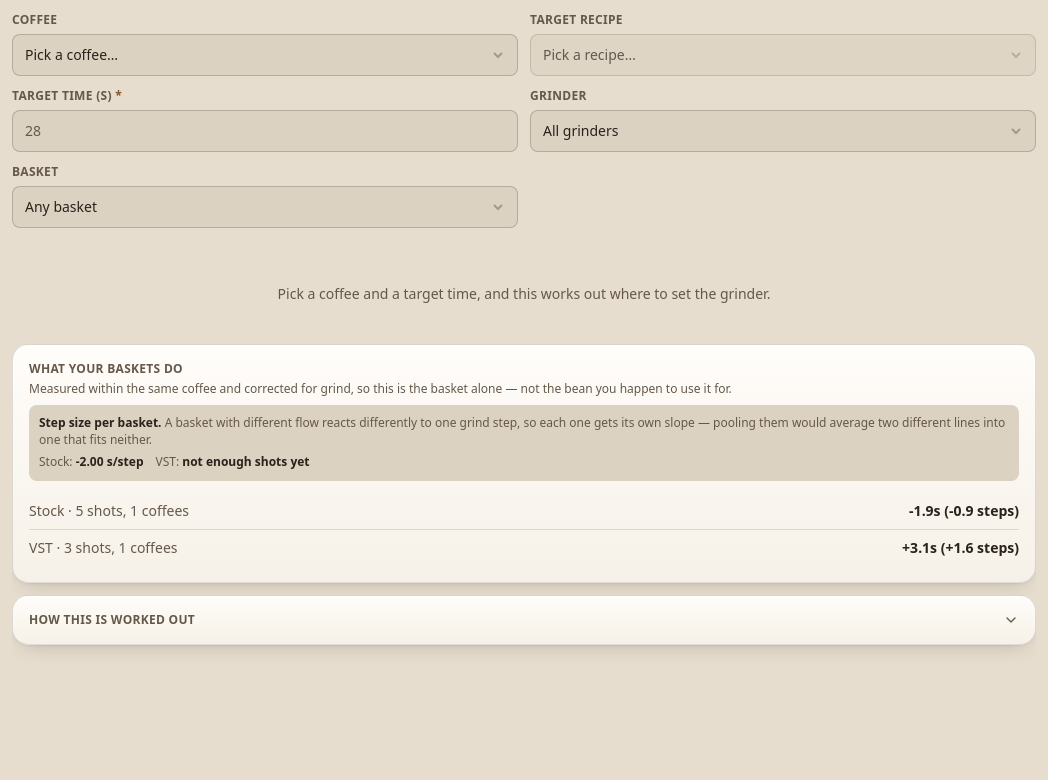
it: a target time can be set without any recipe at all
The width and height of the screenshot is (1048, 780).
Select "Bean / R" in the dropdown labelled "Coffee": coordinates (265, 55) [12,34,518,76]
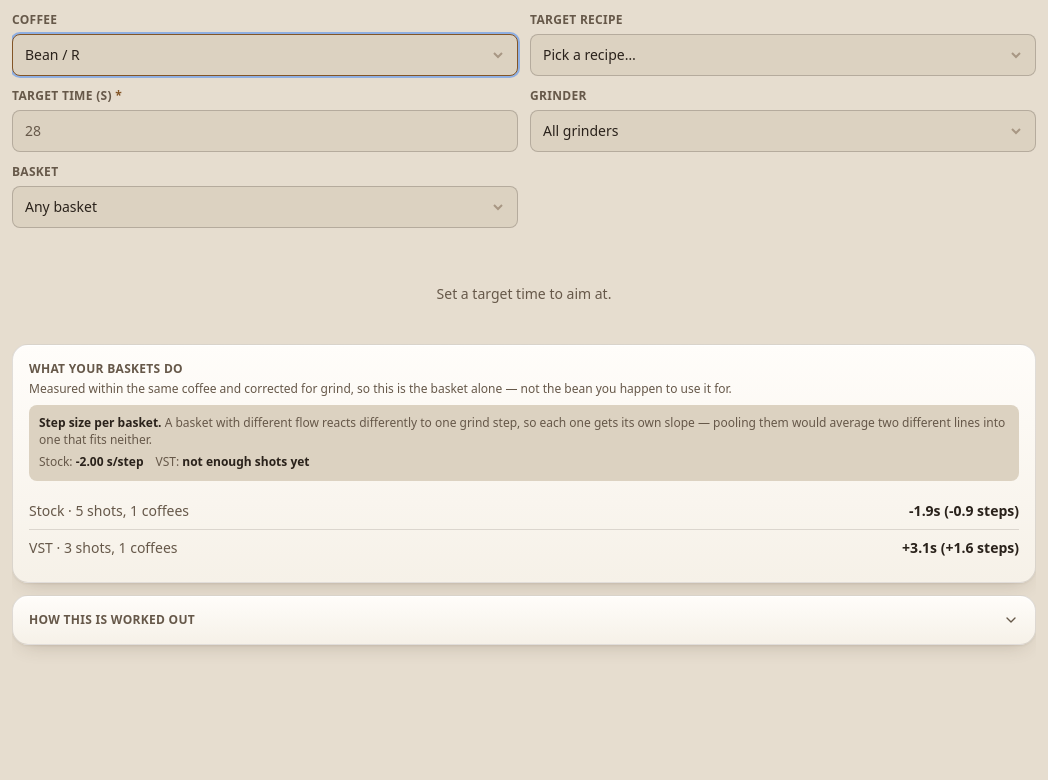
In the number field labelled "Target time (s) *": coordinates (265, 131) [12,110,518,152], type "34"
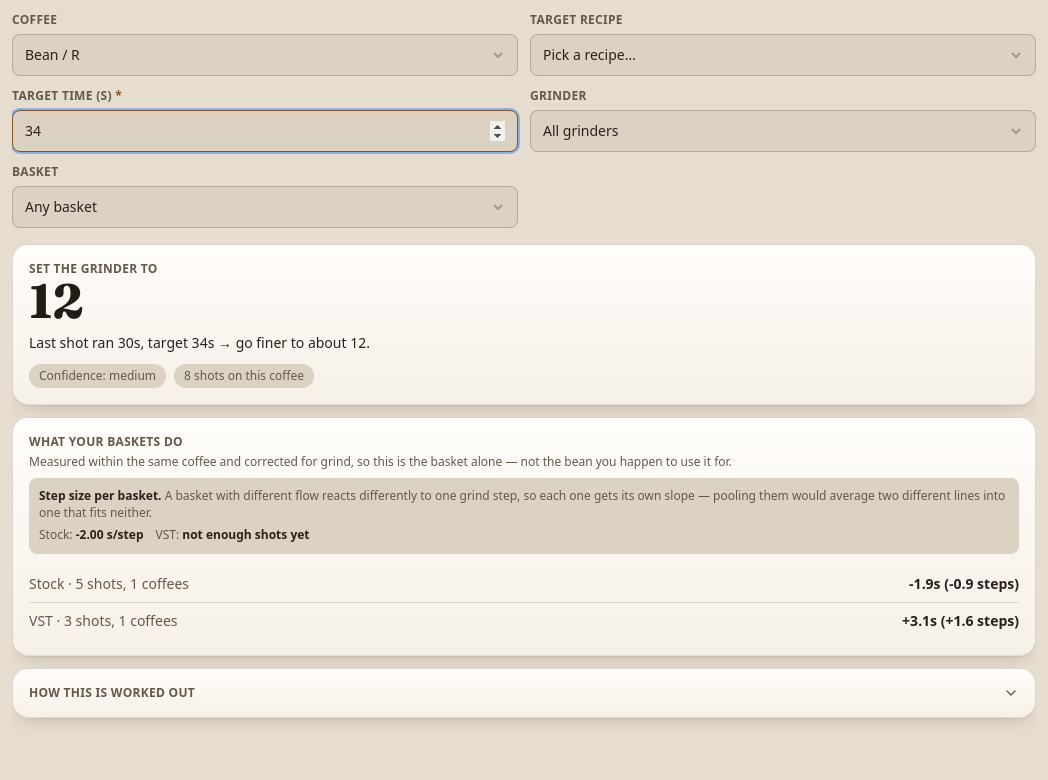
Check: the text "Set the grinder to" is shown, box [29,260,158,277]
Check: the text "12" is shown, box [29,271,83,330]
